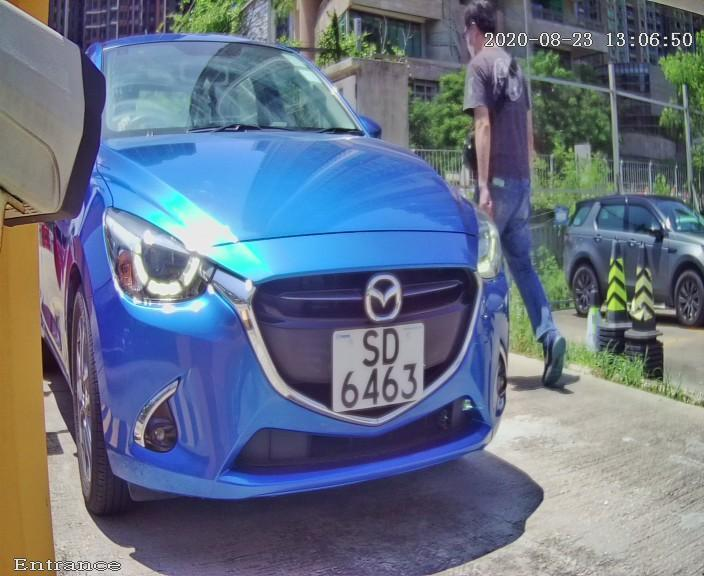Car: (23, 13, 529, 551)
License Plate: (324, 301, 428, 427)
